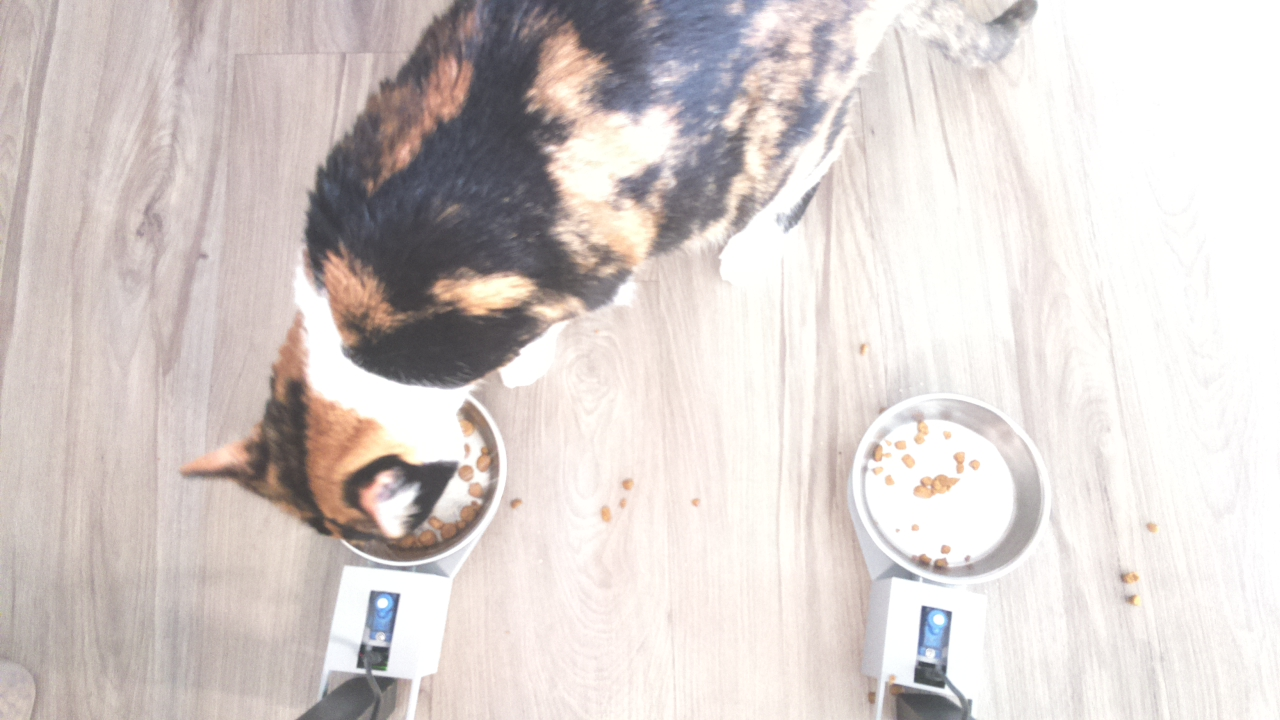bella_eating: (179, 272, 515, 573)
open_bowl: (851, 392, 1049, 583)
